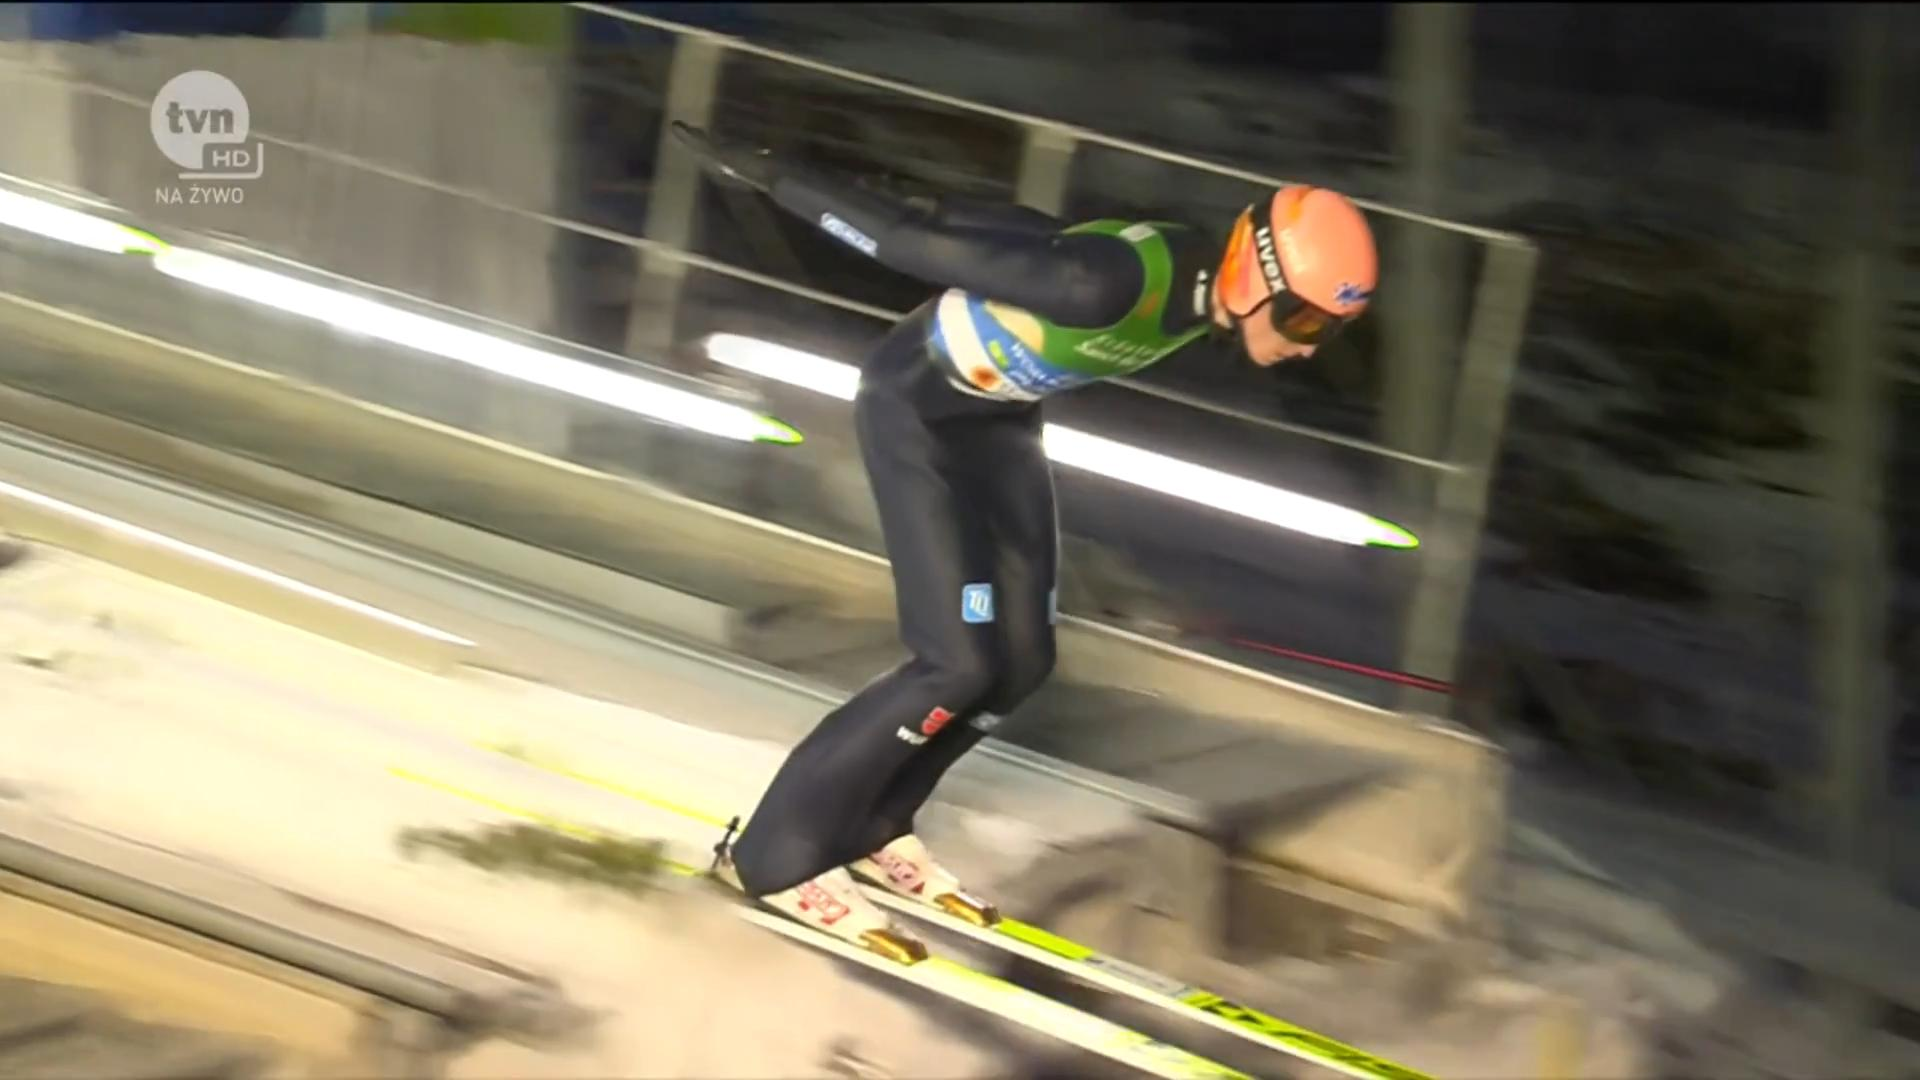prog: (1048, 764, 1395, 905)
